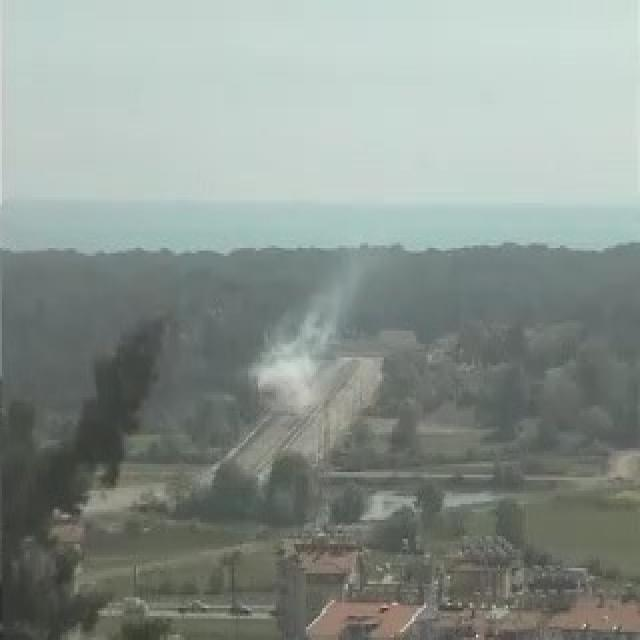smoke: (256, 278, 346, 408)
